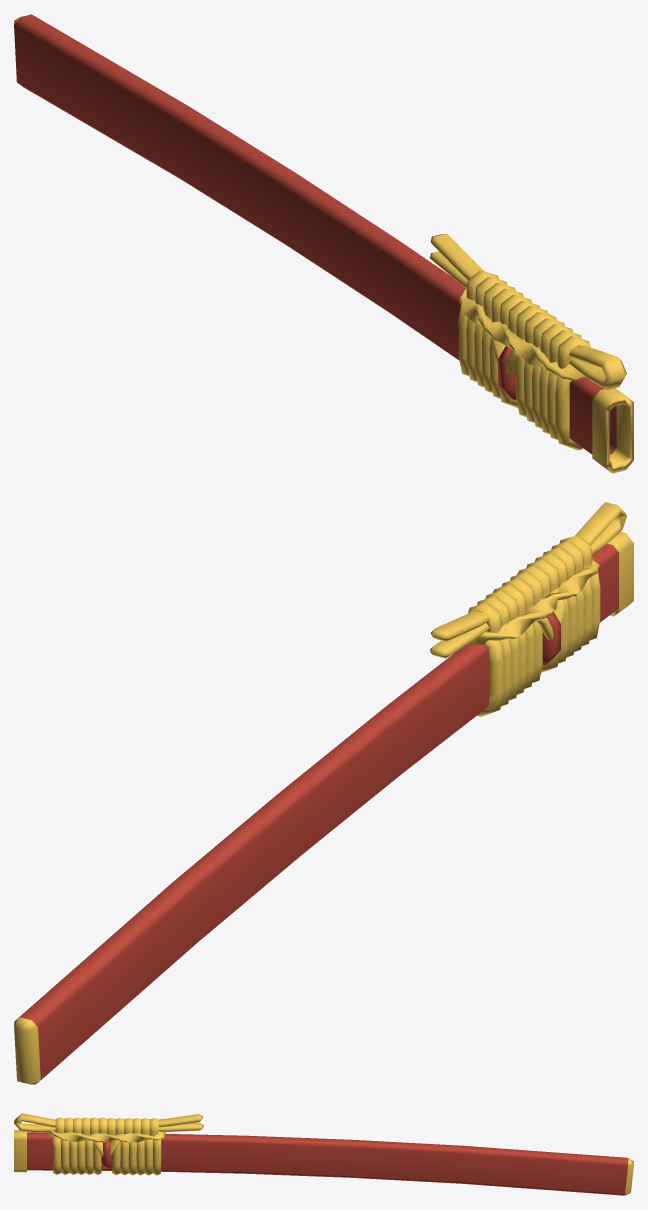
File: Sheath.fbx
3 renders of one model, top to bottom at view 1: azimuth 30°, elevation 25°; view 2: azimuth 150°, elevation 25°; view 3: azimuth 270°, elevation 25°, orthographic. The views are drawn at different scales.
Visible parts, largest first — view 1: Sheath, Sash; view 2: Sheath, Sash; view 3: Sheath, Sash.
Boxes of the visible parts, box(x1,y1,x2,y2) form: Sheath: box(14, 14, 633, 473); Sash: box(430, 234, 626, 450); Sheath: box(14, 532, 633, 1084); Sash: box(429, 502, 626, 716); Sheath: box(14, 1130, 633, 1195); Sash: box(14, 1113, 203, 1175).
Bounding box in the file's own units: 7.73 × 18.53 × 131.
